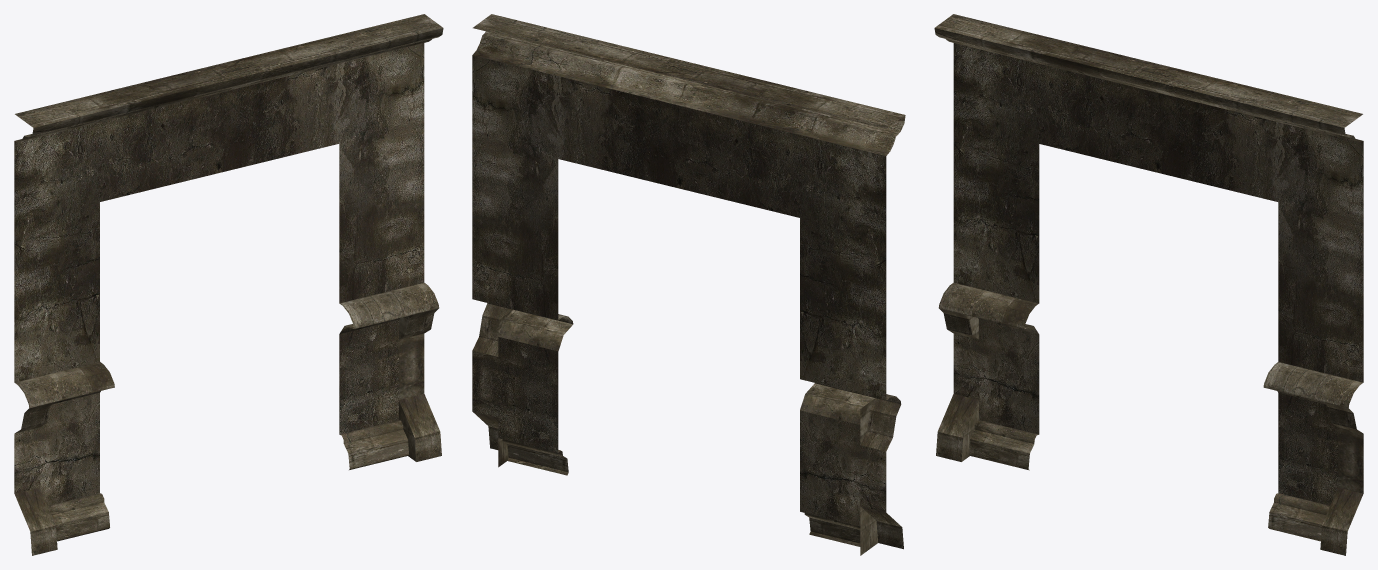
File: door_way_worn_amfp.dae
The picture shows the model from 3 angles, left to right: view 1: azimuth 30°, elevation 25°; view 2: azimuth 150°, elevation 25°; view 3: azimuth 330°, elevation 25°; orthographic projection.
Parts seen in each view (by area): view 1: castlebase_doorway_worn; view 2: castlebase_doorway_worn; view 3: castlebase_doorway_worn.
Boxes of the visible parts, x1,y1,x2,y2 form: castlebase_doorway_worn: [14, 14, 443, 555]; castlebase_doorway_worn: [472, 14, 905, 555]; castlebase_doorway_worn: [934, 14, 1363, 555].
Size of the model in its own units: 4 by 4 by 0.3219.
